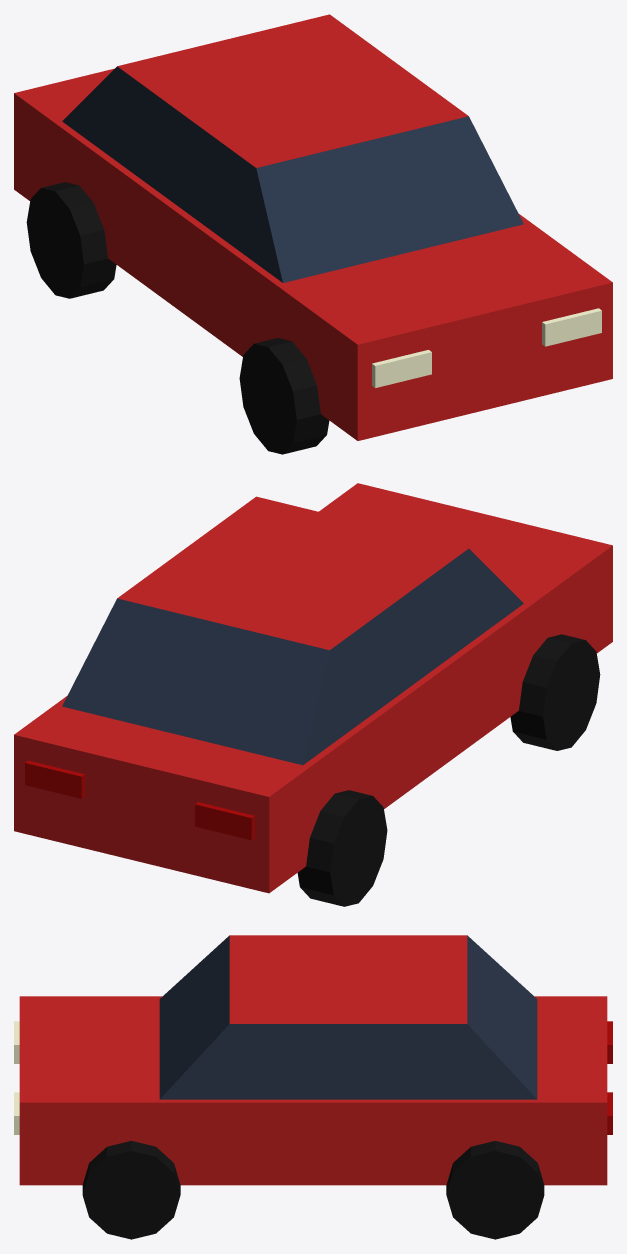
File: carro.obj
The picture shows the model from 3 angles, top to bottom: view 1: azimuth 30°, elevation 25°; view 2: azimuth 150°, elevation 25°; view 3: azimuth 270°, elevation 25°; orthographic projection. The views are drawn at different scales.
Parts seen in each view (by area): view 1: carroceria, cristales, cabina, llantas, faros; view 2: carroceria, cristales, cabina, llantas, calaveras; view 3: carroceria, cristales, cabina, llantas, faros, calaveras.
Part boxes in pixels (left/top/right/bottom): carroceria: left=14, top=68, right=612, bottom=440; cristales: left=62, top=66, right=523, bottom=282; cabina: left=117, top=14, right=468, bottom=167; llantas: left=26, top=182, right=329, bottom=454; faros: left=372, top=308, right=601, bottom=388; carroceria: left=14, top=483, right=612, bottom=893; cristales: left=62, top=548, right=523, bottom=765; cabina: left=117, top=496, right=468, bottom=650; llantas: left=297, top=634, right=600, bottom=906; calaveras: left=25, top=760, right=254, bottom=840; carroceria: left=19, top=996, right=607, bottom=1185; cristales: left=159, top=935, right=537, bottom=1099; cabina: left=229, top=935, right=467, bottom=1023; llantas: left=82, top=1141, right=544, bottom=1239; faros: left=14, top=1021, right=19, bottom=1134; calaveras: left=607, top=1021, right=612, bottom=1134.
Size of the model in its own units: 2.14 by 1.55 by 4.28.
